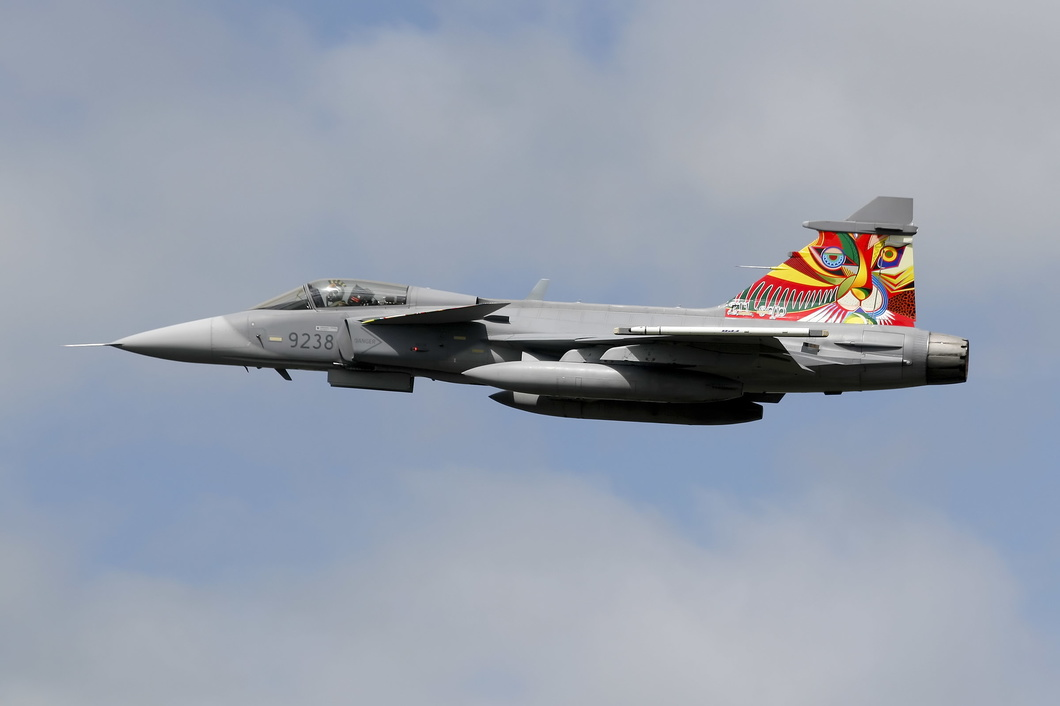JAS39: (58, 196, 968, 425)
